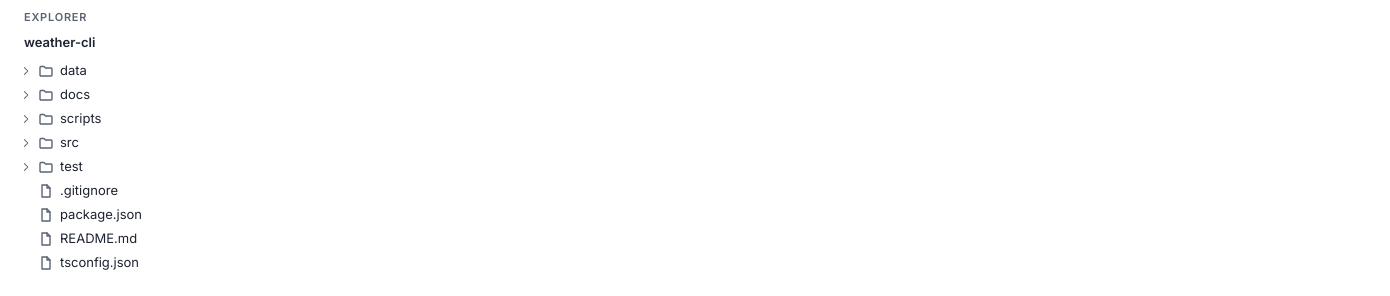
Test: ExplorerContextMenu › opens on right-click of a file with every operation, and marks the row
Right-click the button with test id "tree-row-package.json": (101, 214) x1=12 y1=203 x2=1378 y2=227
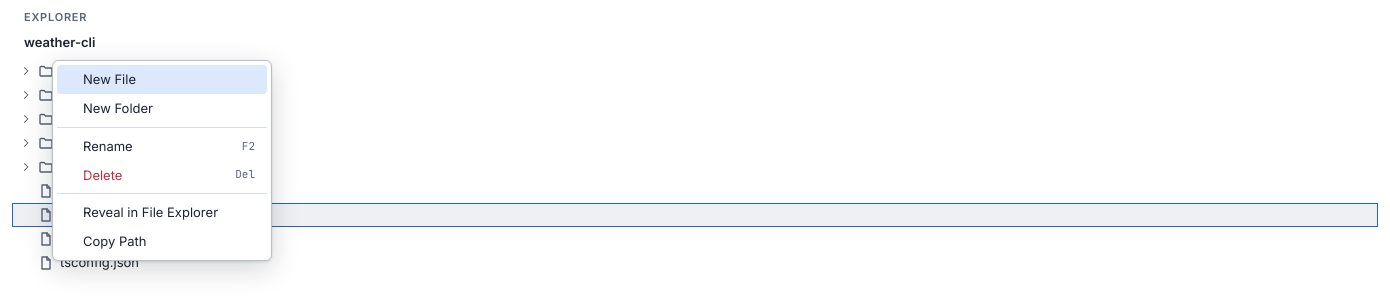
Now the button with test id "tree-row-package.json" has class "is-menu-target", box x1=12 y1=203 x2=1378 y2=227
Press Escape in the menu named "Explorer actions", box x1=52 y1=60 x2=272 y2=261
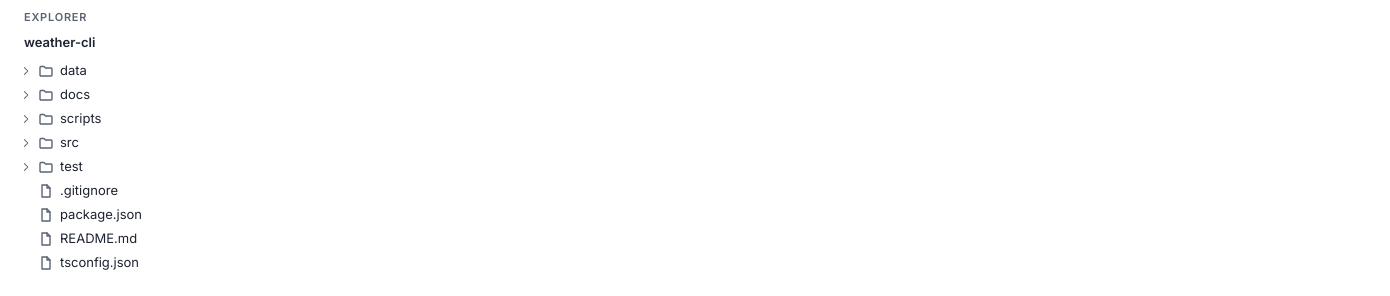
Now the menu is gone
